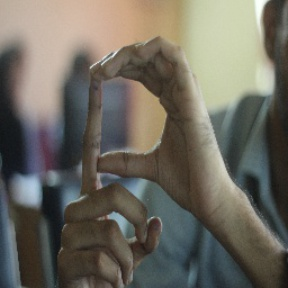D: (77, 35, 203, 204)
